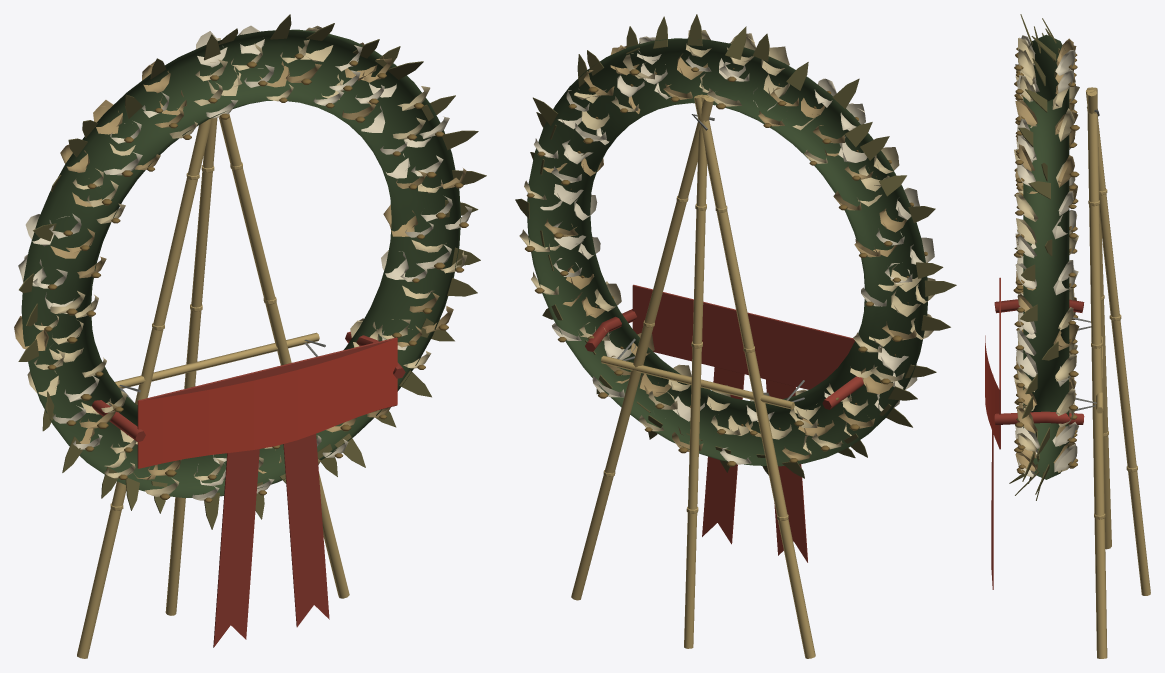
The model's file is VongHoa_Heo.glb.
The picture shows the model from 3 angles, left to right: view 1: azimuth 30°, elevation 25°; view 2: azimuth 150°, elevation 25°; view 3: azimuth 270°, elevation 25°; orthographic projection. The views are drawn at different scales.
Visible parts, largest first — view 1: VongHoa_Heo; view 2: VongHoa_Heo; view 3: VongHoa_Heo.
Boxes of the visible parts, x1,y1,x2,y2 form: VongHoa_Heo: [14, 14, 486, 658]; VongHoa_Heo: [515, 14, 956, 658]; VongHoa_Heo: [985, 14, 1150, 658].
Bounding box in the file's own units: 1.01 × 1.31 × 0.3507.
